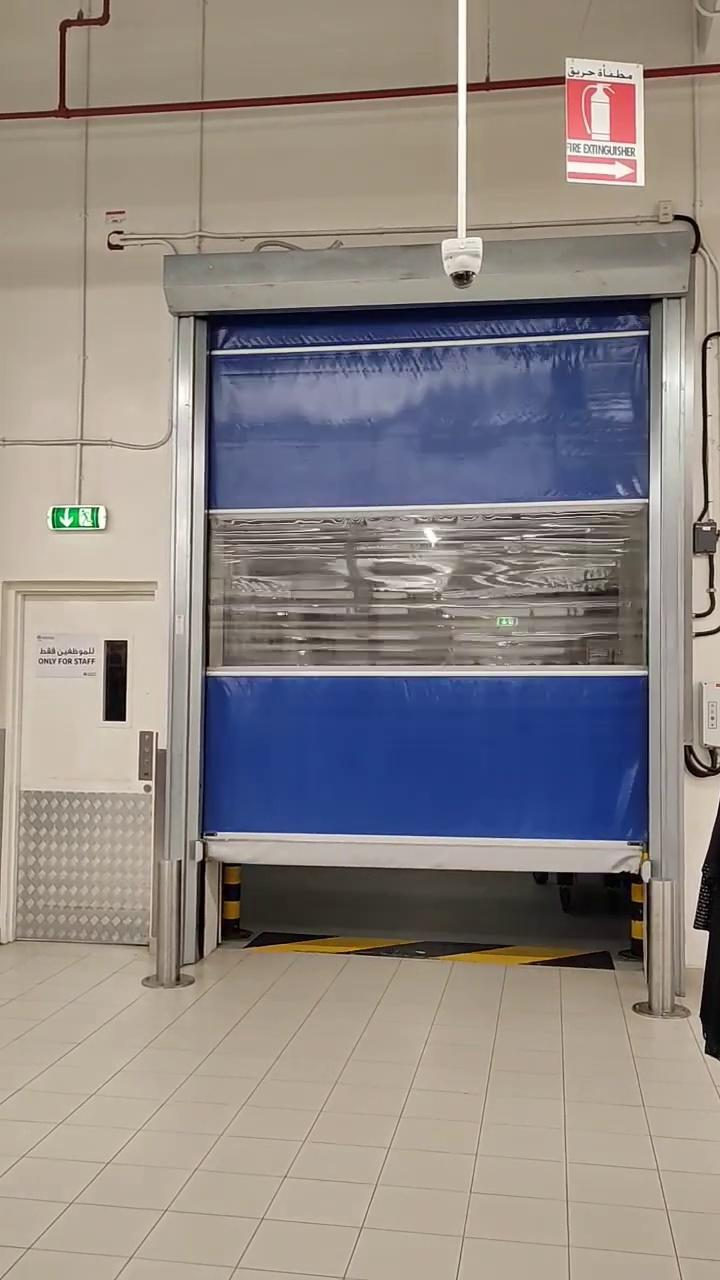Strip: (251, 920, 615, 975)
